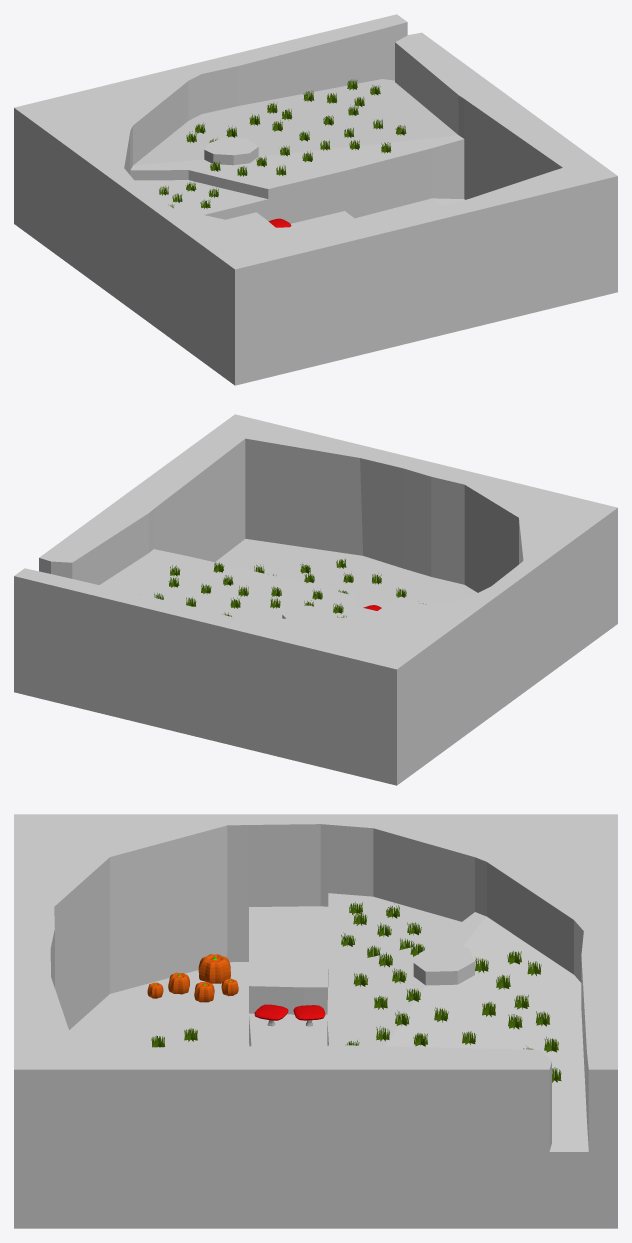
The model's file is stage_1_1_filled.glb.
The picture shows the model from 3 angles, top to bottom: view 1: azimuth 30°, elevation 25°; view 2: azimuth 150°, elevation 25°; view 3: azimuth 270°, elevation 25°; orthographic projection. The views are drawn at different scales.
Parts seen in each view (by area): view 1: scene, ground; view 2: scene, ground; view 3: scene, ground, pumpkin.003.
Part boxes in pixels (left/top/right/bottom): scene: left=14, top=14, right=617, bottom=385; ground: left=131, top=79, right=464, bottom=228; scene: left=14, top=414, right=617, bottom=785; ground: left=99, top=539, right=477, bottom=618; scene: left=14, top=814, right=617, bottom=1228; ground: left=69, top=893, right=588, bottom=1151; pumpkin.003: left=198, top=954, right=230, bottom=983.
Size of the model in its own units: 80 by 23.2 by 80.
